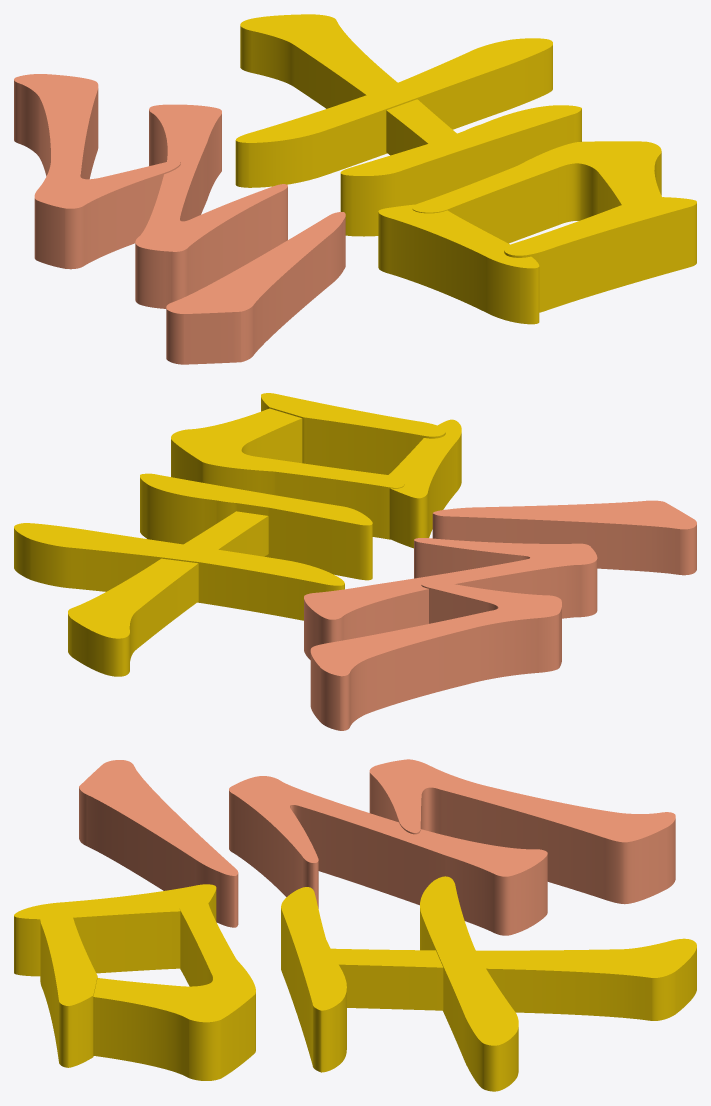
File: hanzi209.fbx
3 views of the same model, one above another, from view 1: azimuth 30°, elevation 25°; view 2: azimuth 150°, elevation 25°; view 3: azimuth 270°, elevation 25° (orthographic). The views are drawn at different scales.
Visible parts, largest first — view 1: Curve.003, Curve.001, Curve, Curve.007, Curve.002, Curve.005, Curve.008, Curve.006, Curve.004; view 2: Curve, Curve.001, Curve.003, Curve.007, Curve.005, Curve.002, Curve.004, Curve.008, Curve.006; view 3: Curve.001, Curve, Curve.004, Curve.007, Curve.002, Curve.003, Curve.006, Curve.005, Curve.008.
Boxes of the visible parts, left/top/right/bottom form: Curve.003: left=235, top=38, right=552, bottom=187; Curve.001: left=135, top=104, right=287, bottom=308; Curve: left=14, top=74, right=180, bottom=269; Curve.007: left=412, top=141, right=661, bottom=243; Curve.002: left=166, top=212, right=345, bottom=364; Curve.005: left=340, top=105, right=581, bottom=236; Curve.008: left=504, top=197, right=696, bottom=312; Curve.006: left=378, top=204, right=539, bottom=324; Curve.004: left=240, top=14, right=456, bottom=155; Curve: left=310, top=582, right=561, bottom=730; Curve.001: left=304, top=538, right=597, bottom=659; Curve.003: left=14, top=523, right=344, bottom=620; Curve.007: left=171, top=408, right=404, bottom=539; Curve.005: left=140, top=473, right=372, bottom=580; Curve.002: left=432, top=500, right=696, bottom=575; Curve.004: left=68, top=511, right=268, bottom=676; Curve.008: left=261, top=393, right=445, bottom=474; Curve.006: left=389, top=419, right=461, bottom=548; Curve.001: left=229, top=776, right=547, bottom=935; Curve: left=369, top=759, right=675, bottom=904; Curve.004: left=331, top=938, right=696, bottom=1020; Curve.007: left=93, top=898, right=255, bottom=1080; Curve.002: left=79, top=760, right=238, bottom=927; Curve.003: left=420, top=876, right=518, bottom=1091; Curve.006: left=14, top=884, right=216, bottom=976; Curve.005: left=281, top=887, right=346, bottom=1072; Curve.008: left=40, top=908, right=97, bottom=1067.
Bounding box in the file's own units: 22.56 × 23.02 × 2.3.
